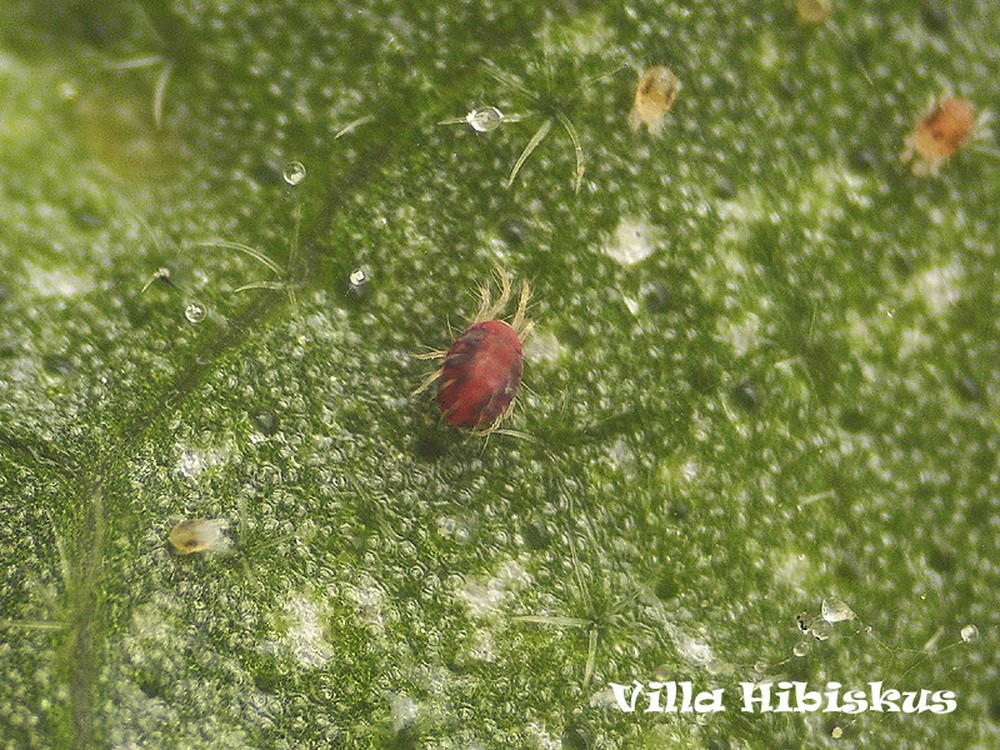Aracnido Rojo: (392, 254, 543, 455)
